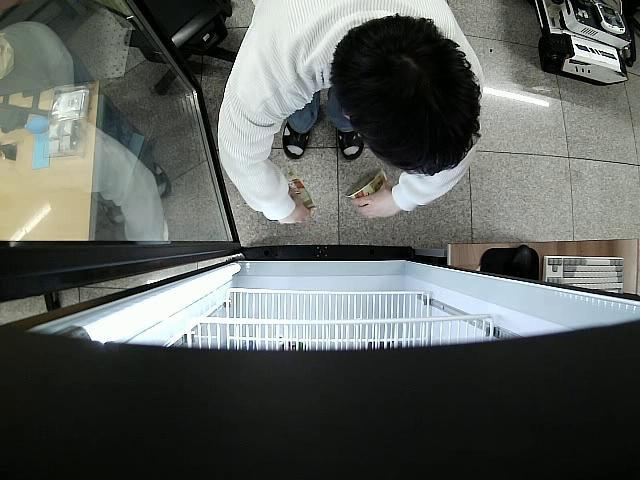03_chapagetti_L: (345, 167, 389, 203), (284, 176, 316, 213)
